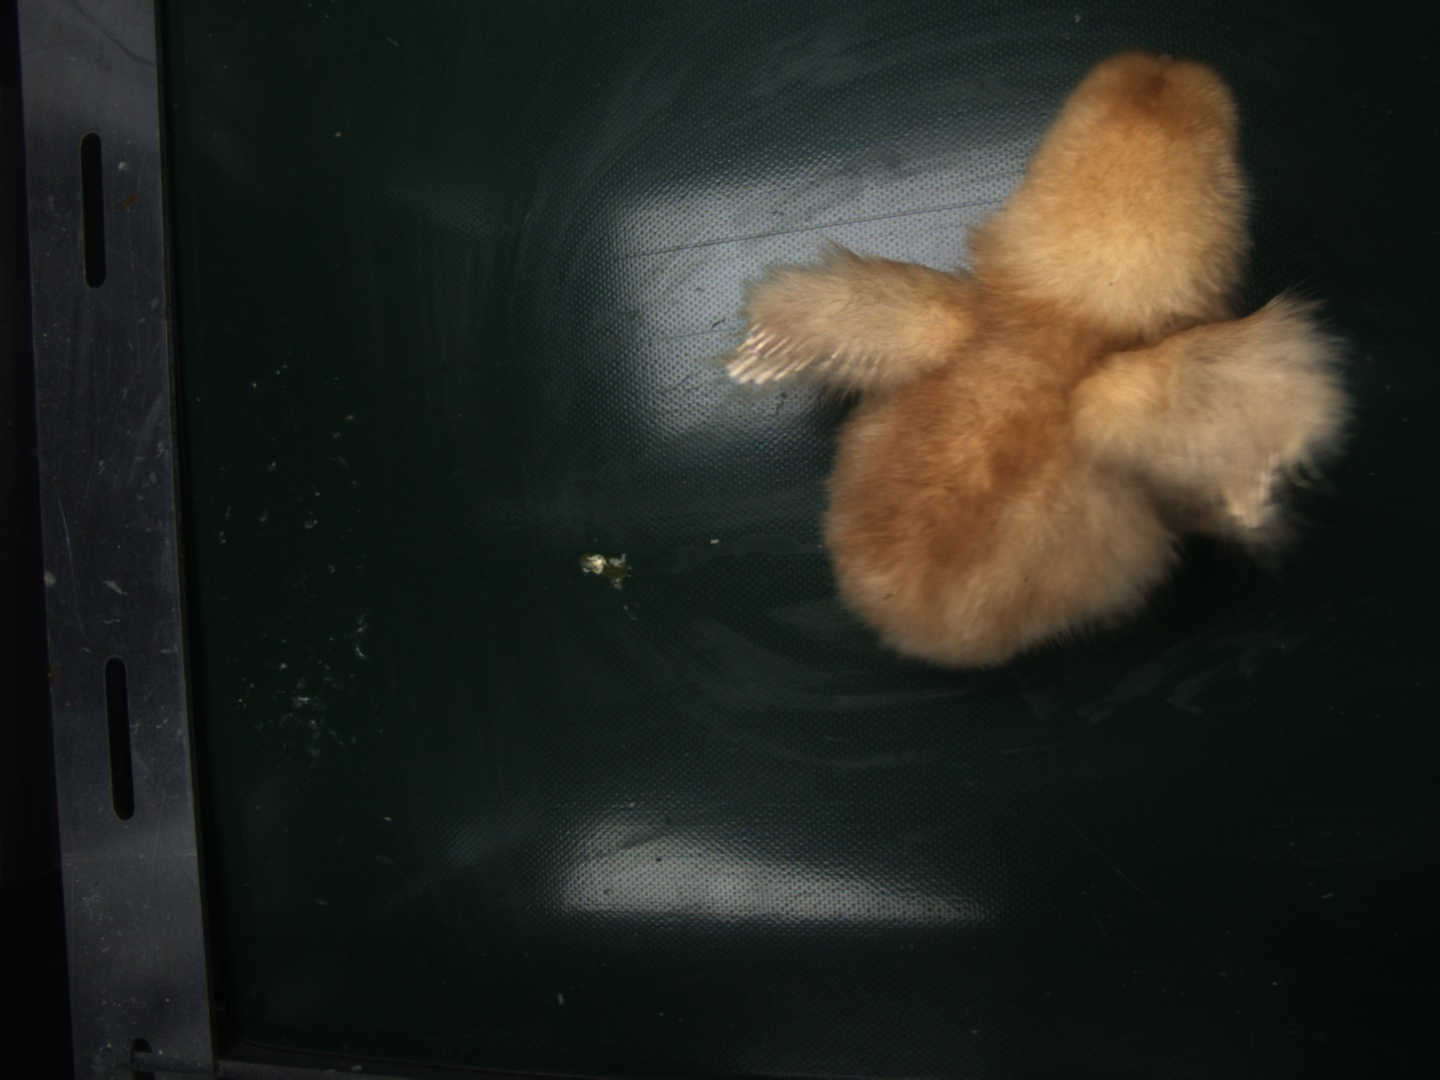female: (722, 320, 810, 385)
